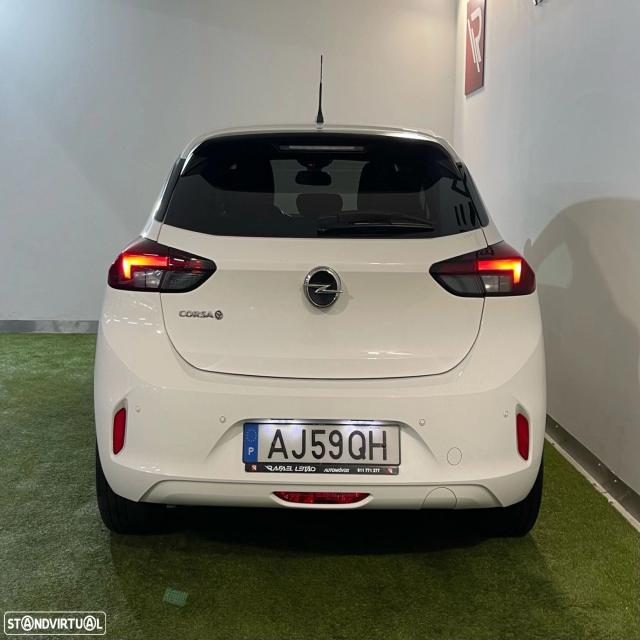portuguese-license-plates: (243, 423, 400, 466)
